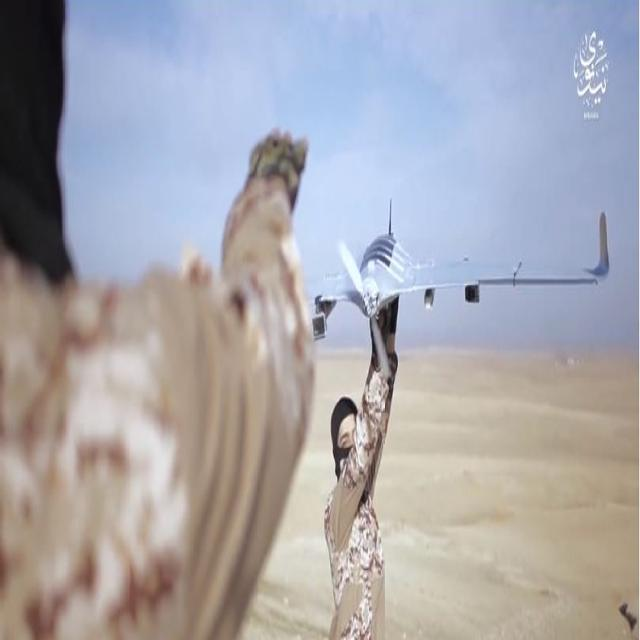iha: (306, 201, 620, 346)
